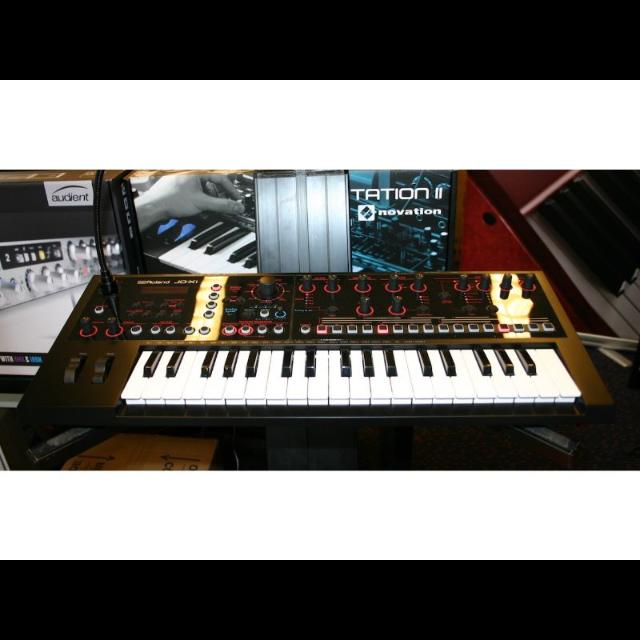Electronic-Keyboard: (18, 268, 610, 424)
